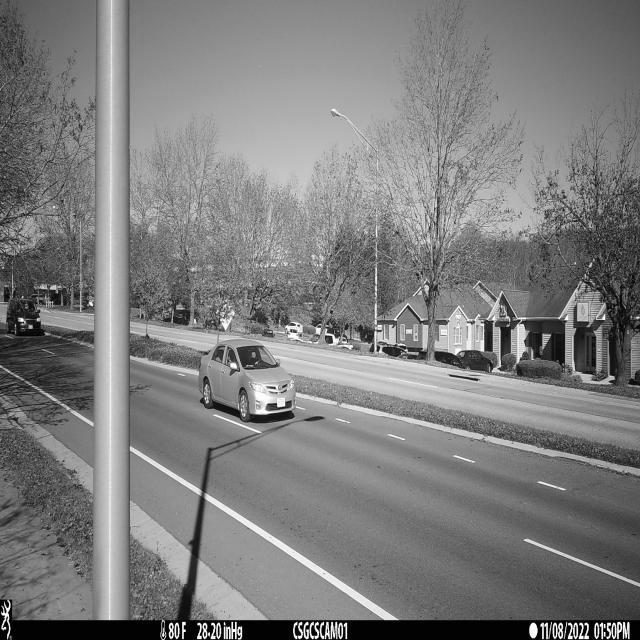Sedan: (199, 339, 296, 423)
